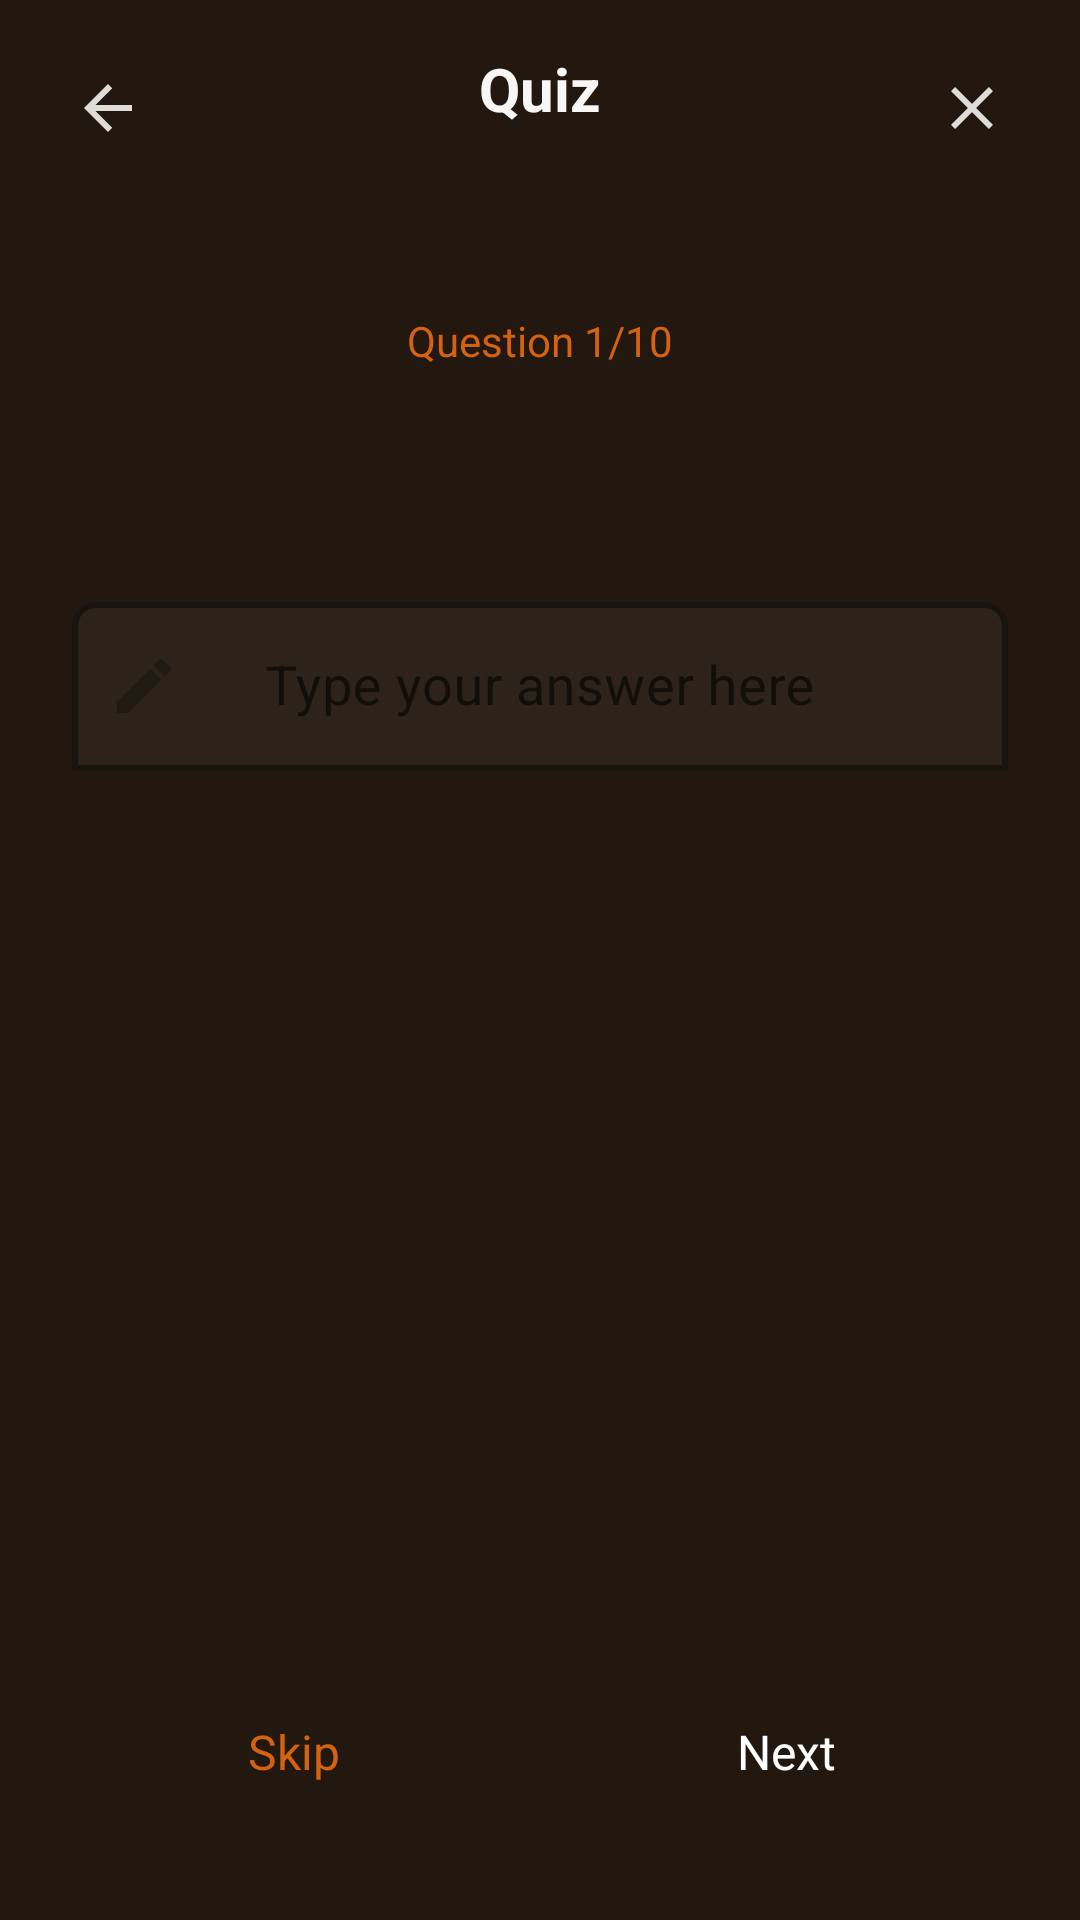

Icons on this 1080*1920 Android screen, each with its box as (x1, y1, x2, y2):
Close quiz: (951, 87, 993, 129)
Navigate back: (84, 84, 132, 132)
